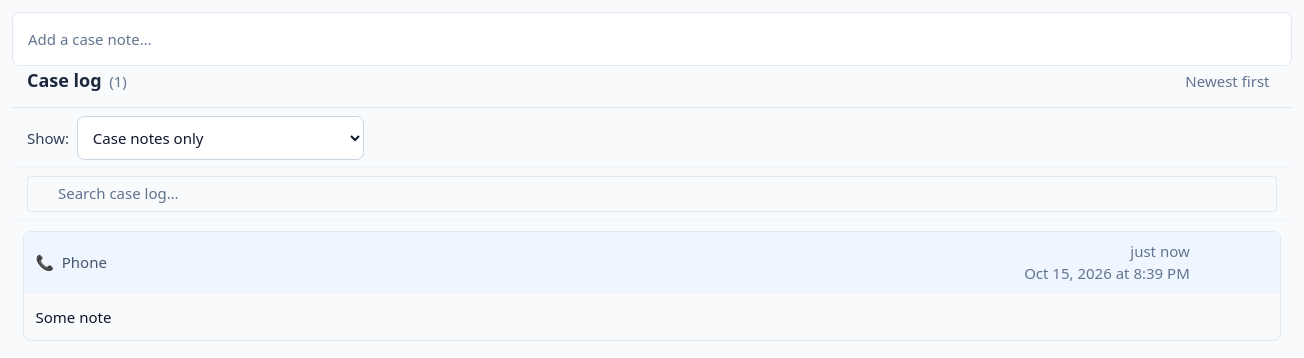
it: CaseLog › shows "No entries match your search" when search has no results
The image size is (1304, 358).
Expected: the text "Some note" is shown, [36, 306, 111, 326]
In the search field with placeholder "Search case log…": (652, 194) [27, 176, 1277, 212], type "nonexistent"
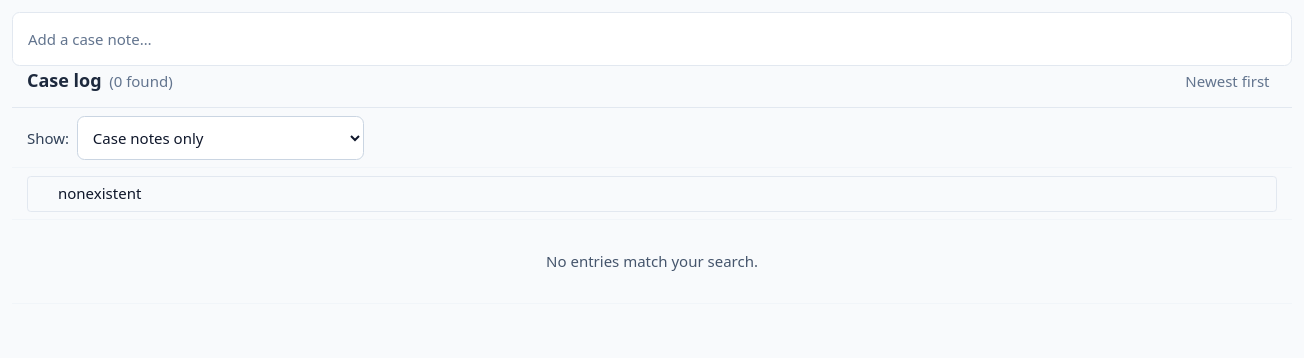
Result: the text "No entries match your search." is shown at [12, 220, 1292, 304]
